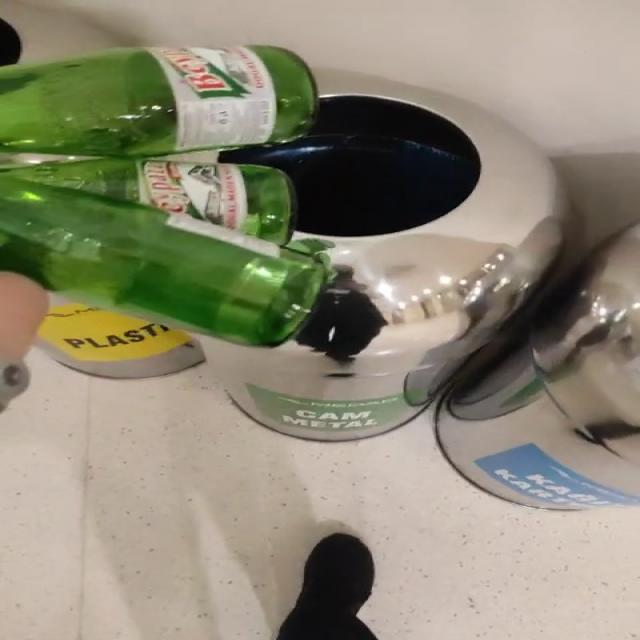Bin: (204, 70, 563, 440)
Glass: (1, 45, 333, 346)
